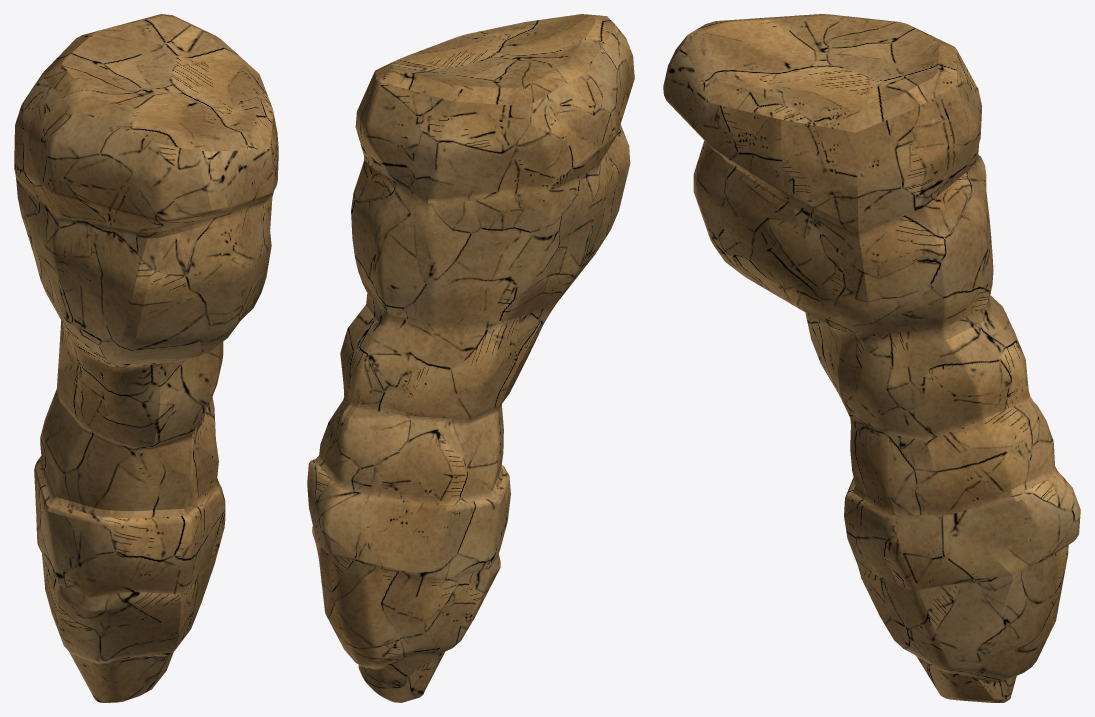
The model's file is 3D_prop_object_BigRockCanon_001.fbx.
The picture shows the model from 3 angles, left to right: view 1: azimuth 30°, elevation 25°; view 2: azimuth 150°, elevation 25°; view 3: azimuth 270°, elevation 25°; orthographic projection. The views are drawn at different scales.
Parts seen in each view (by area): view 1: polySurface2; view 2: polySurface2; view 3: polySurface2.
Boxes of the visible parts, x1,y1,x2,y2 form: polySurface2: (14, 14, 278, 702); polySurface2: (307, 14, 634, 702); polySurface2: (663, 14, 1080, 702).
Size of the model in its own units: 3.13 by 8.35 by 4.9.
Materials: 1 (1 with a texture image).
